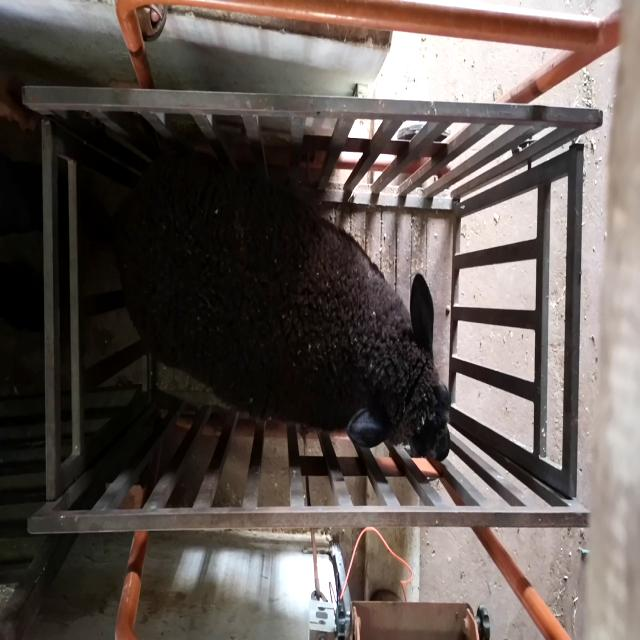sheep: (112, 152, 451, 463)
